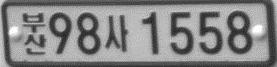1: (141, 11, 164, 55)
5: (198, 10, 223, 55), (170, 11, 194, 54)
8: (226, 10, 253, 55), (75, 11, 101, 55)
9: (48, 12, 72, 54)
부산_V: (21, 11, 46, 55)
사: (104, 14, 129, 52)
